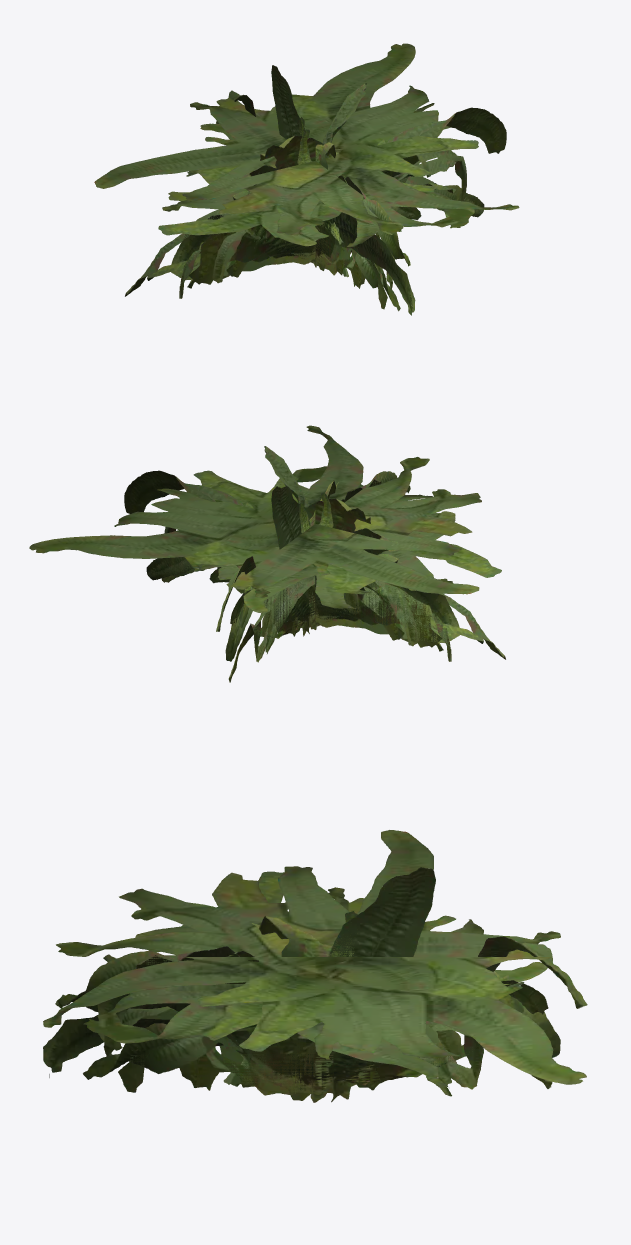
The model's file is fern.glb.
3 views of the same model, one above another, from view 1: azimuth 30°, elevation 25°; view 2: azimuth 150°, elevation 25°; view 3: azimuth 270°, elevation 25° (orthographic). The views are drawn at different scales.
Visible parts, largest first — view 1: fern_0, fern_1; view 2: fern_0, fern_1; view 3: fern_0, fern_1.
Boxes of the visible parts, x1=… form: fern_0: x1=94, y1=43, x2=519, y2=315; fern_1: x1=147, y1=103, x2=484, y2=311; fern_0: x1=29, y1=425, x2=505, y2=682; fern_1: x1=146, y1=466, x2=501, y2=662; fern_0: x1=43, y1=830, x2=587, y2=1102; fern_1: x1=49, y1=871, x2=548, y2=1102.
Bounding box in the file's own units: 0.9897 × 0.4277 × 0.9897.
4 materials, 4 textured.
